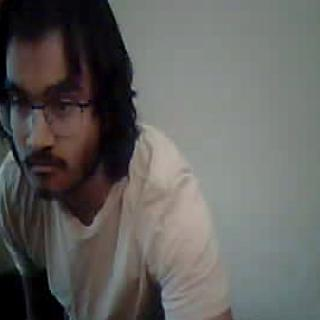Yellow T-Shirt: (0, 176, 221, 320)
